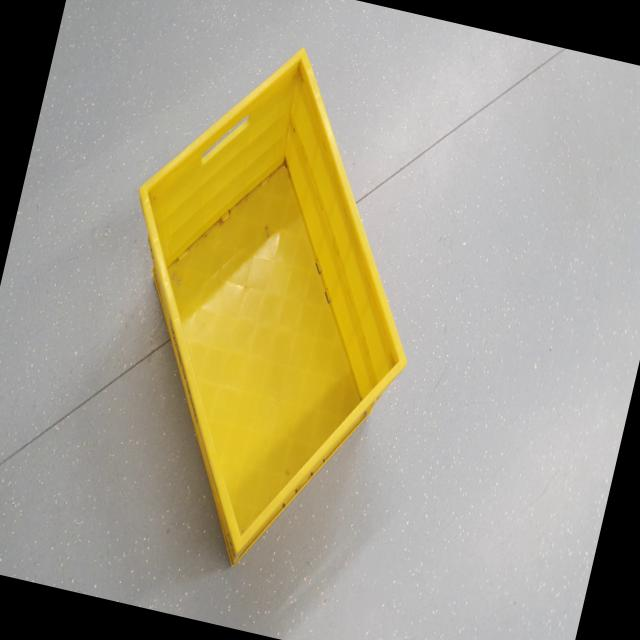box: (52, 5, 476, 612)
